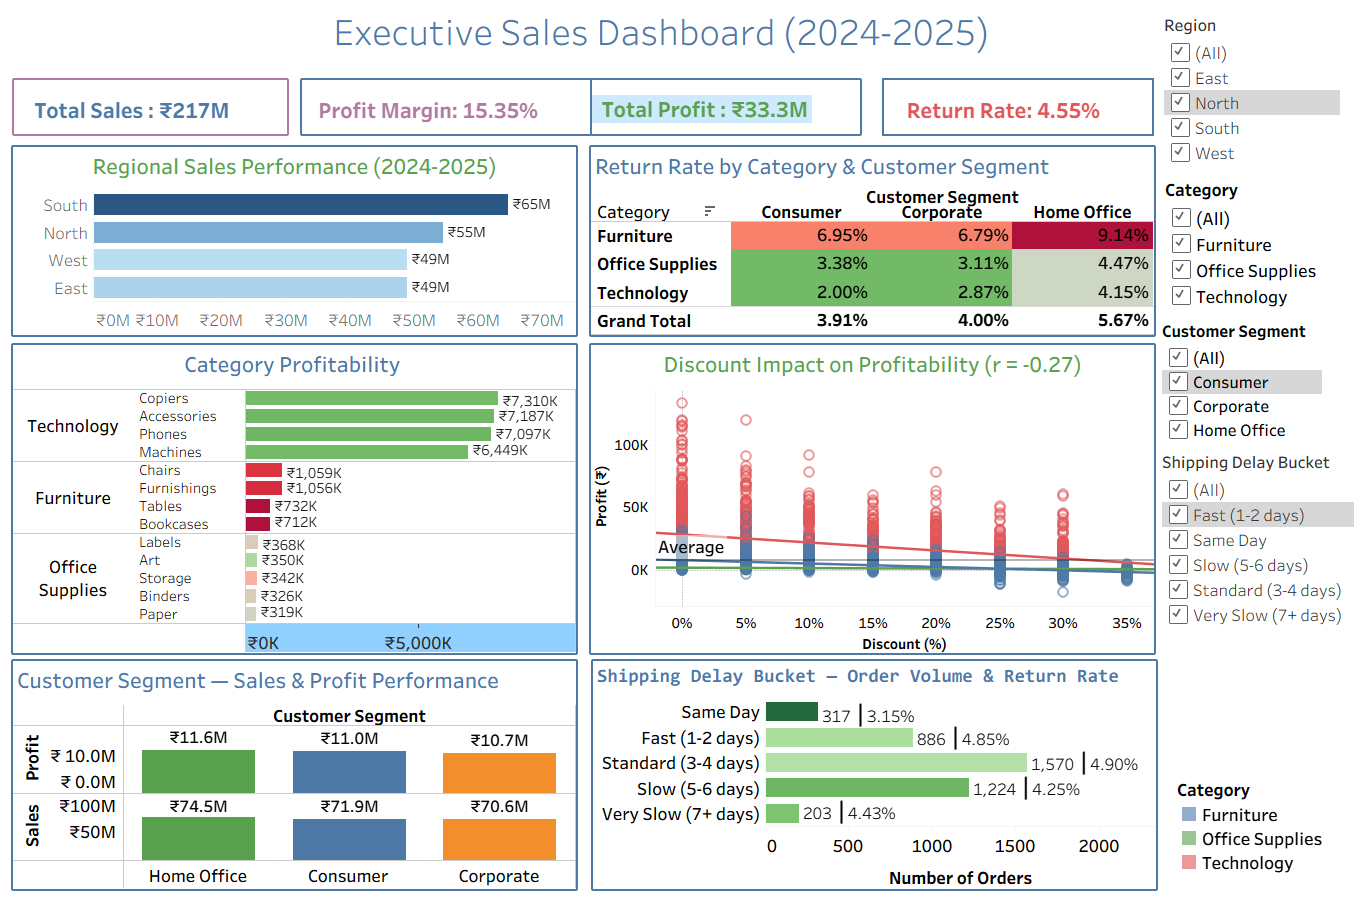

The page's visual inventory and layout, read from the dashboard file:
{"tool":"tableau","page":{"name":"Executive Sales Dashboard.twbx","canvas":[1366,900],"ordinal":0},"visuals":[{"type":"text","box":[303,11,716,43]},{"type":"filter","title":" Regional Performance ","param":"[federated.1xi87aq08oqs041992yq30zyc1hx].[none:region:nk]","box":[1164,15,176,154]},{"type":"worksheet","title":"KPI 1: Total Sales","mark":"Automatic","box":[8,75,285,66]},{"type":"worksheet","title":"KPI 3: Profit Margin","mark":"Automatic","box":[296,75,300,66]},{"type":"worksheet","title":"KPI 2: Total Profit","mark":"Automatic","box":[586,75,280,66]},{"type":"worksheet","title":"KPI 4: Return Rate","mark":"Automatic","box":[878,75,280,66]},{"type":"worksheet","title":" Regional Performance ","mark":"Automatic","rows":["region"],"cols":["sales"],"box":[7,142,575,200]},{"type":"worksheet","title":"Return Analysis ","mark":"Square","rows":["category"],"cols":["customer_segment"],"box":[585,142,575,200]},{"type":"filter","title":"Return Analysis ","param":"[federated.1xi87aq08oqs041992yq30zyc1hx].[none:category:nk]","box":[1165,179,160,134]},{"type":"filter","title":"Customer Segment ","param":"[federated.1xi87aq08oqs041992yq30zyc1hx].[none:customer_segment:nk]","box":[1162,321,160,125]},{"type":"worksheet","title":"Category Profitability ","mark":"Automatic","rows":["category","sub_category"],"cols":["profit"],"box":[7,340,575,320]},{"type":"worksheet","title":"Discount vs Profit","mark":"Automatic","rows":["profit"],"cols":["discount"],"box":[585,340,575,320]},{"type":"filter","title":"Shipping Delay Bucket","param":"[federated.1xi87aq08oqs041992yq30zyc1hx].[none:Calculation_0780394652045316:nk]","box":[1162,452,192,179]},{"type":"worksheet","title":"Customer Segment ","mark":"Automatic","rows":["profit","sales"],"cols":["customer_segment"],"box":[7,656,575,240]},{"type":"worksheet","title":"Shipping Delay Bucket","mark":"Automatic","rows":["Calculation_0780394652045316"],"cols":["order_id"],"box":[587,656,575,240]},{"type":"legend","title":"Discount vs Profit","param":"[federated.1xi87aq08oqs041992yq30zyc1hx].[none:category:nk]","box":[1173,775,175,104]}]}

Visuals, with their boxes in screenshot pixels (x1, y1, x2, y2), scaled from the page's 1366x900 canvas onto the 1366x897 screenshot:
text: <region>303, 11, 1019, 54</region>
" Regional Performance " filter: <region>1164, 15, 1340, 168</region>
"KPI 1: Total Sales" worksheet: <region>8, 75, 293, 141</region>
"KPI 3: Profit Margin" worksheet: <region>296, 75, 596, 141</region>
"KPI 2: Total Profit" worksheet: <region>586, 75, 866, 141</region>
"KPI 4: Return Rate" worksheet: <region>878, 75, 1158, 141</region>
" Regional Performance " worksheet: <region>7, 142, 582, 341</region>
"Return Analysis " worksheet (Square marks): <region>585, 142, 1160, 341</region>
"Return Analysis " filter: <region>1165, 178, 1325, 312</region>
"Customer Segment " filter: <region>1162, 320, 1322, 445</region>
"Category Profitability " worksheet: <region>7, 339, 582, 658</region>
"Discount vs Profit" worksheet: <region>585, 339, 1160, 658</region>
"Shipping Delay Bucket" filter: <region>1162, 450, 1354, 629</region>
"Customer Segment " worksheet: <region>7, 654, 582, 893</region>
"Shipping Delay Bucket" worksheet: <region>587, 654, 1162, 893</region>
"Discount vs Profit" legend: <region>1173, 772, 1348, 876</region>
